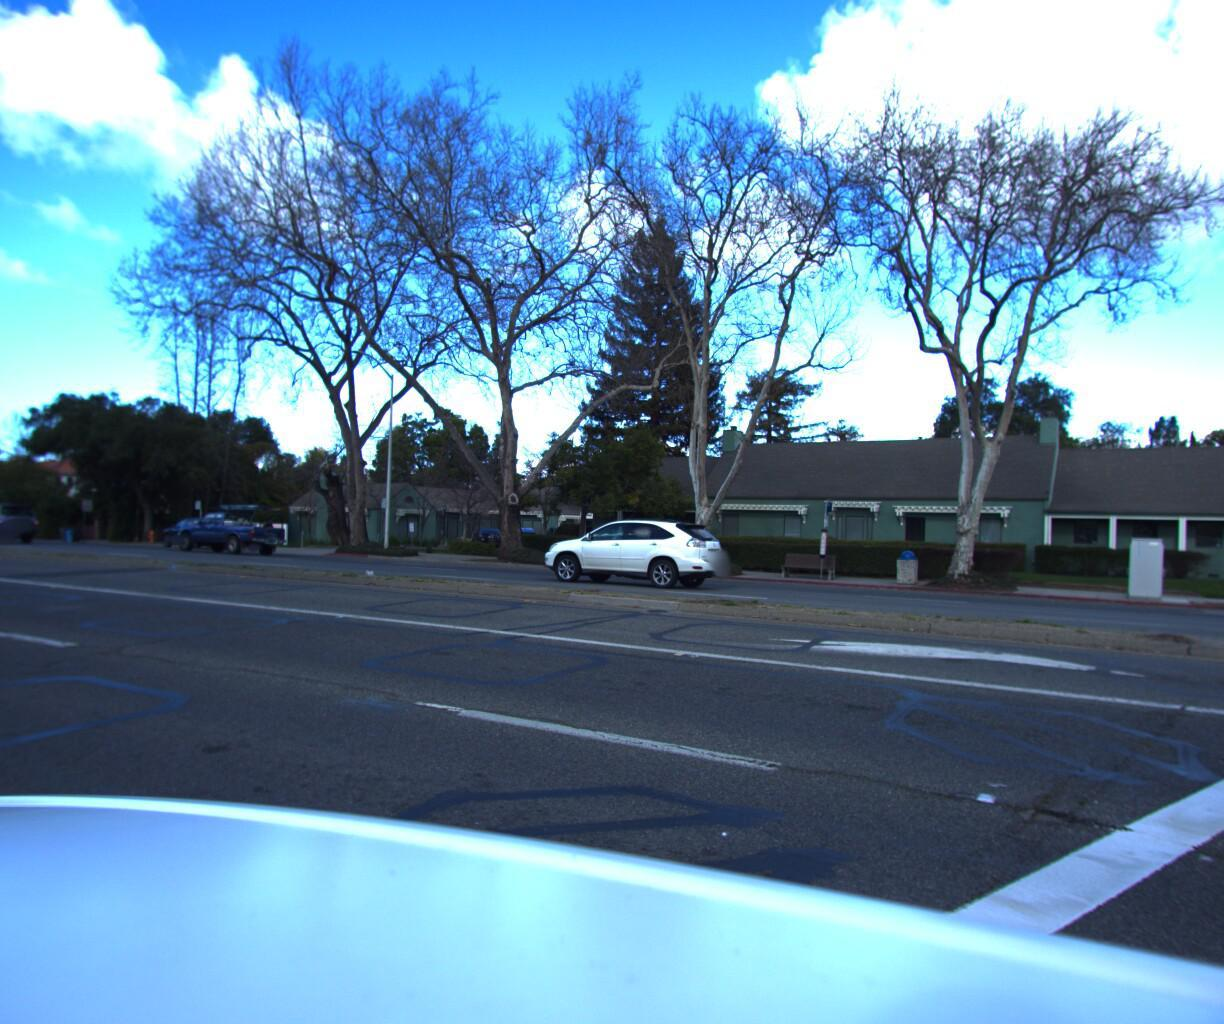car: (533, 510, 741, 587), (168, 498, 294, 552), (148, 513, 229, 546), (0, 499, 41, 540)
